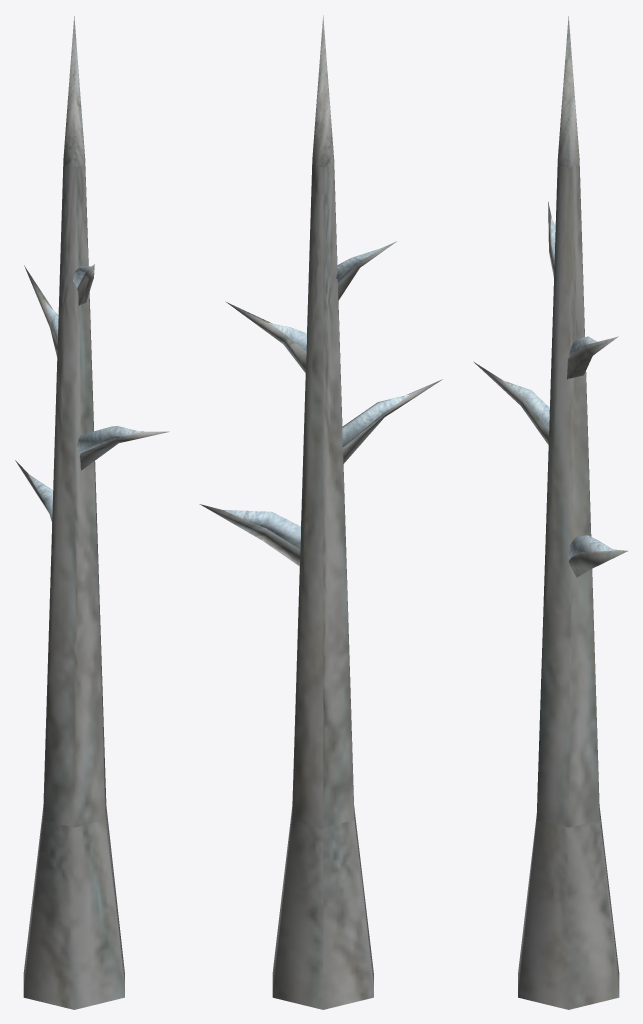
Rendered from tree15.fbx.
The picture shows the model from 3 angles, left to right: view 1: azimuth 90°, elevation 25°; view 2: azimuth 150°, elevation 25°; view 3: azimuth 270°, elevation 25°; orthographic projection.
Visible parts, largest first — view 1: tree15; view 2: tree15; view 3: tree15.
Boxes of the visible parts, <box> form: tree15: <box>15,16,169,1009</box>; tree15: <box>199,15,442,1009</box>; tree15: <box>473,16,627,1009</box>.
Size of the model in its own units: 887 by 4940 by 721.
2 materials, 2 textured.
